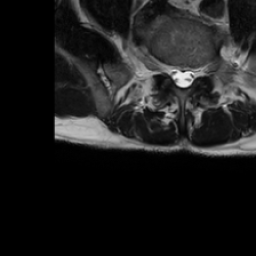CCS_normal: (177, 57, 186, 95)
LFS_normal: (194, 56, 204, 83)
LLS_normal: (186, 57, 194, 93)
RFS_normal: (161, 53, 169, 82)
RLS_normal: (169, 55, 177, 90)
